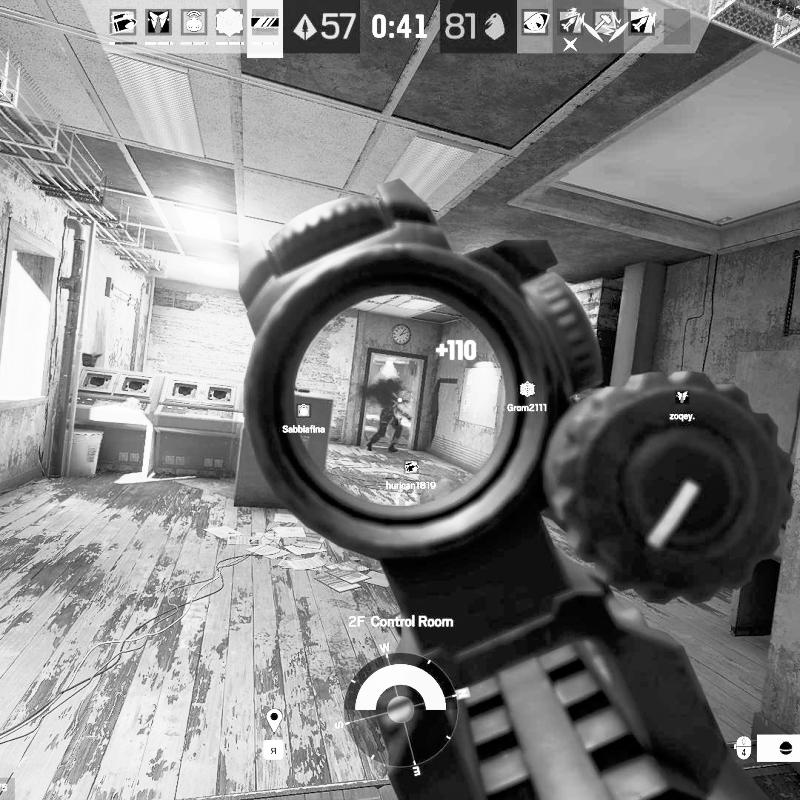Character: (364, 376, 409, 454)
Friend_label: (385, 458, 437, 491), (281, 400, 325, 435), (506, 378, 548, 412), (668, 389, 696, 423)
